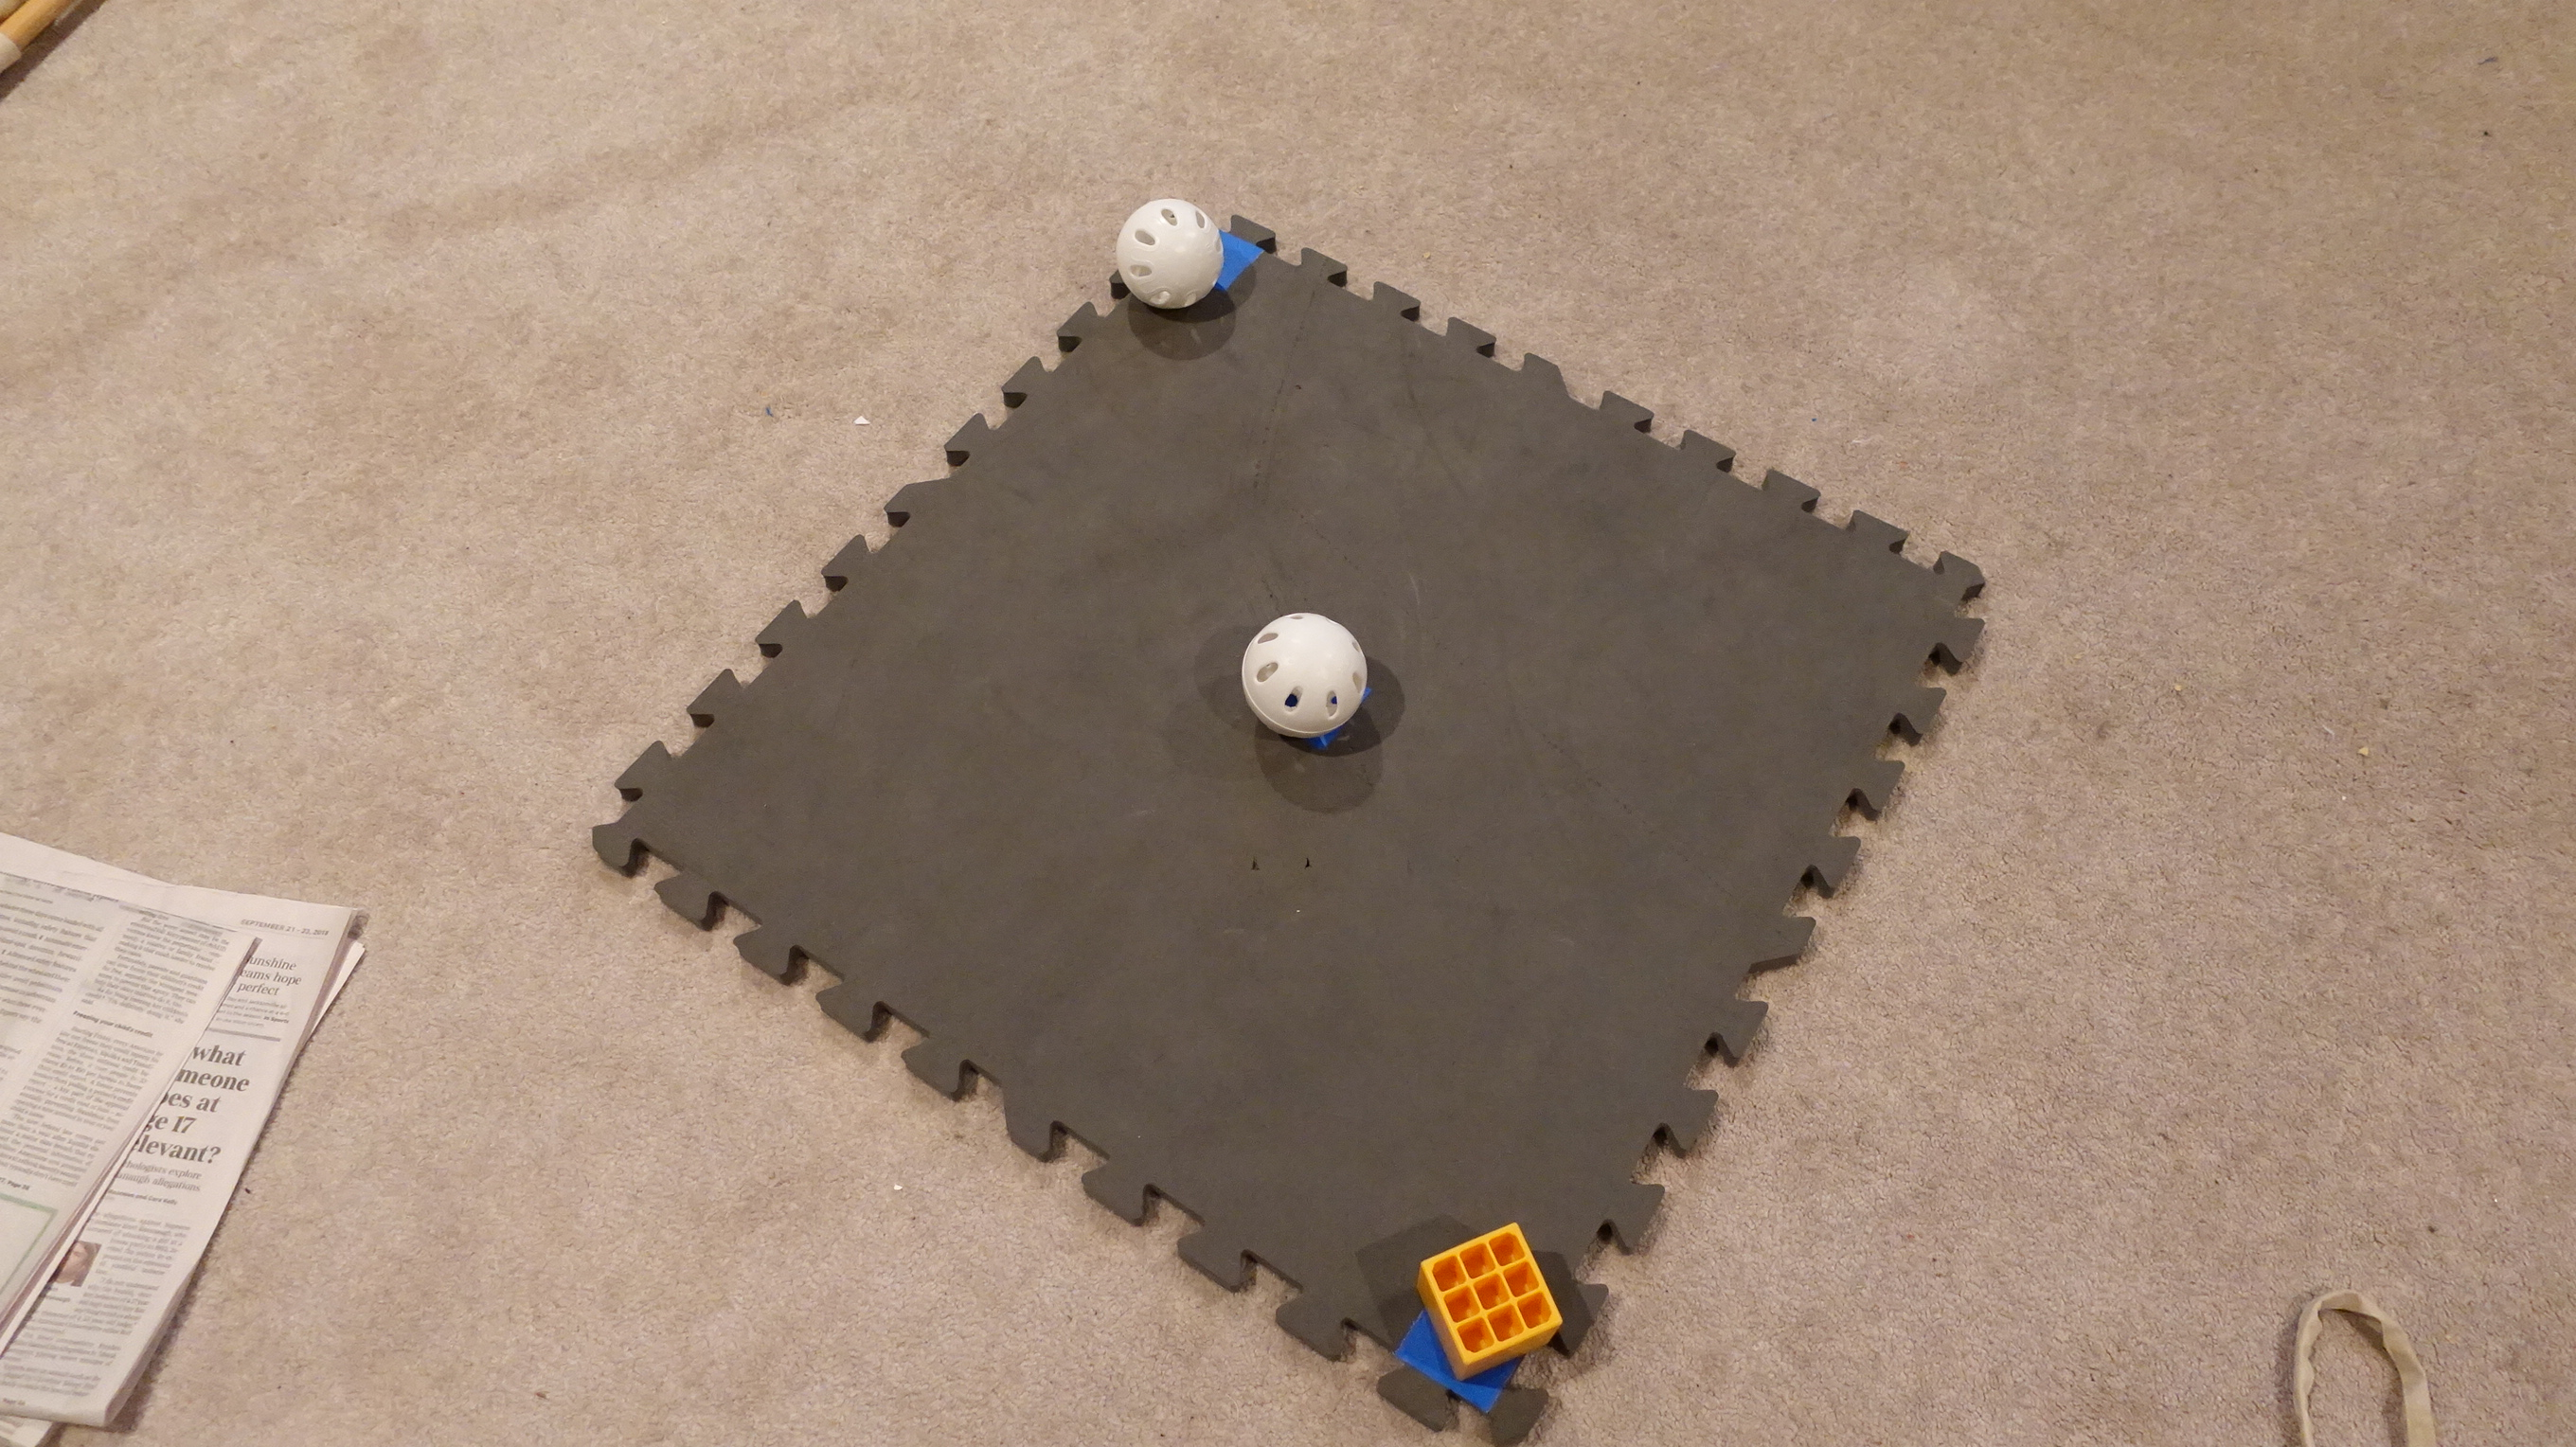gold: (1405, 1212, 1575, 1383)
silver: (1233, 603, 1375, 748), (1106, 189, 1246, 334)
